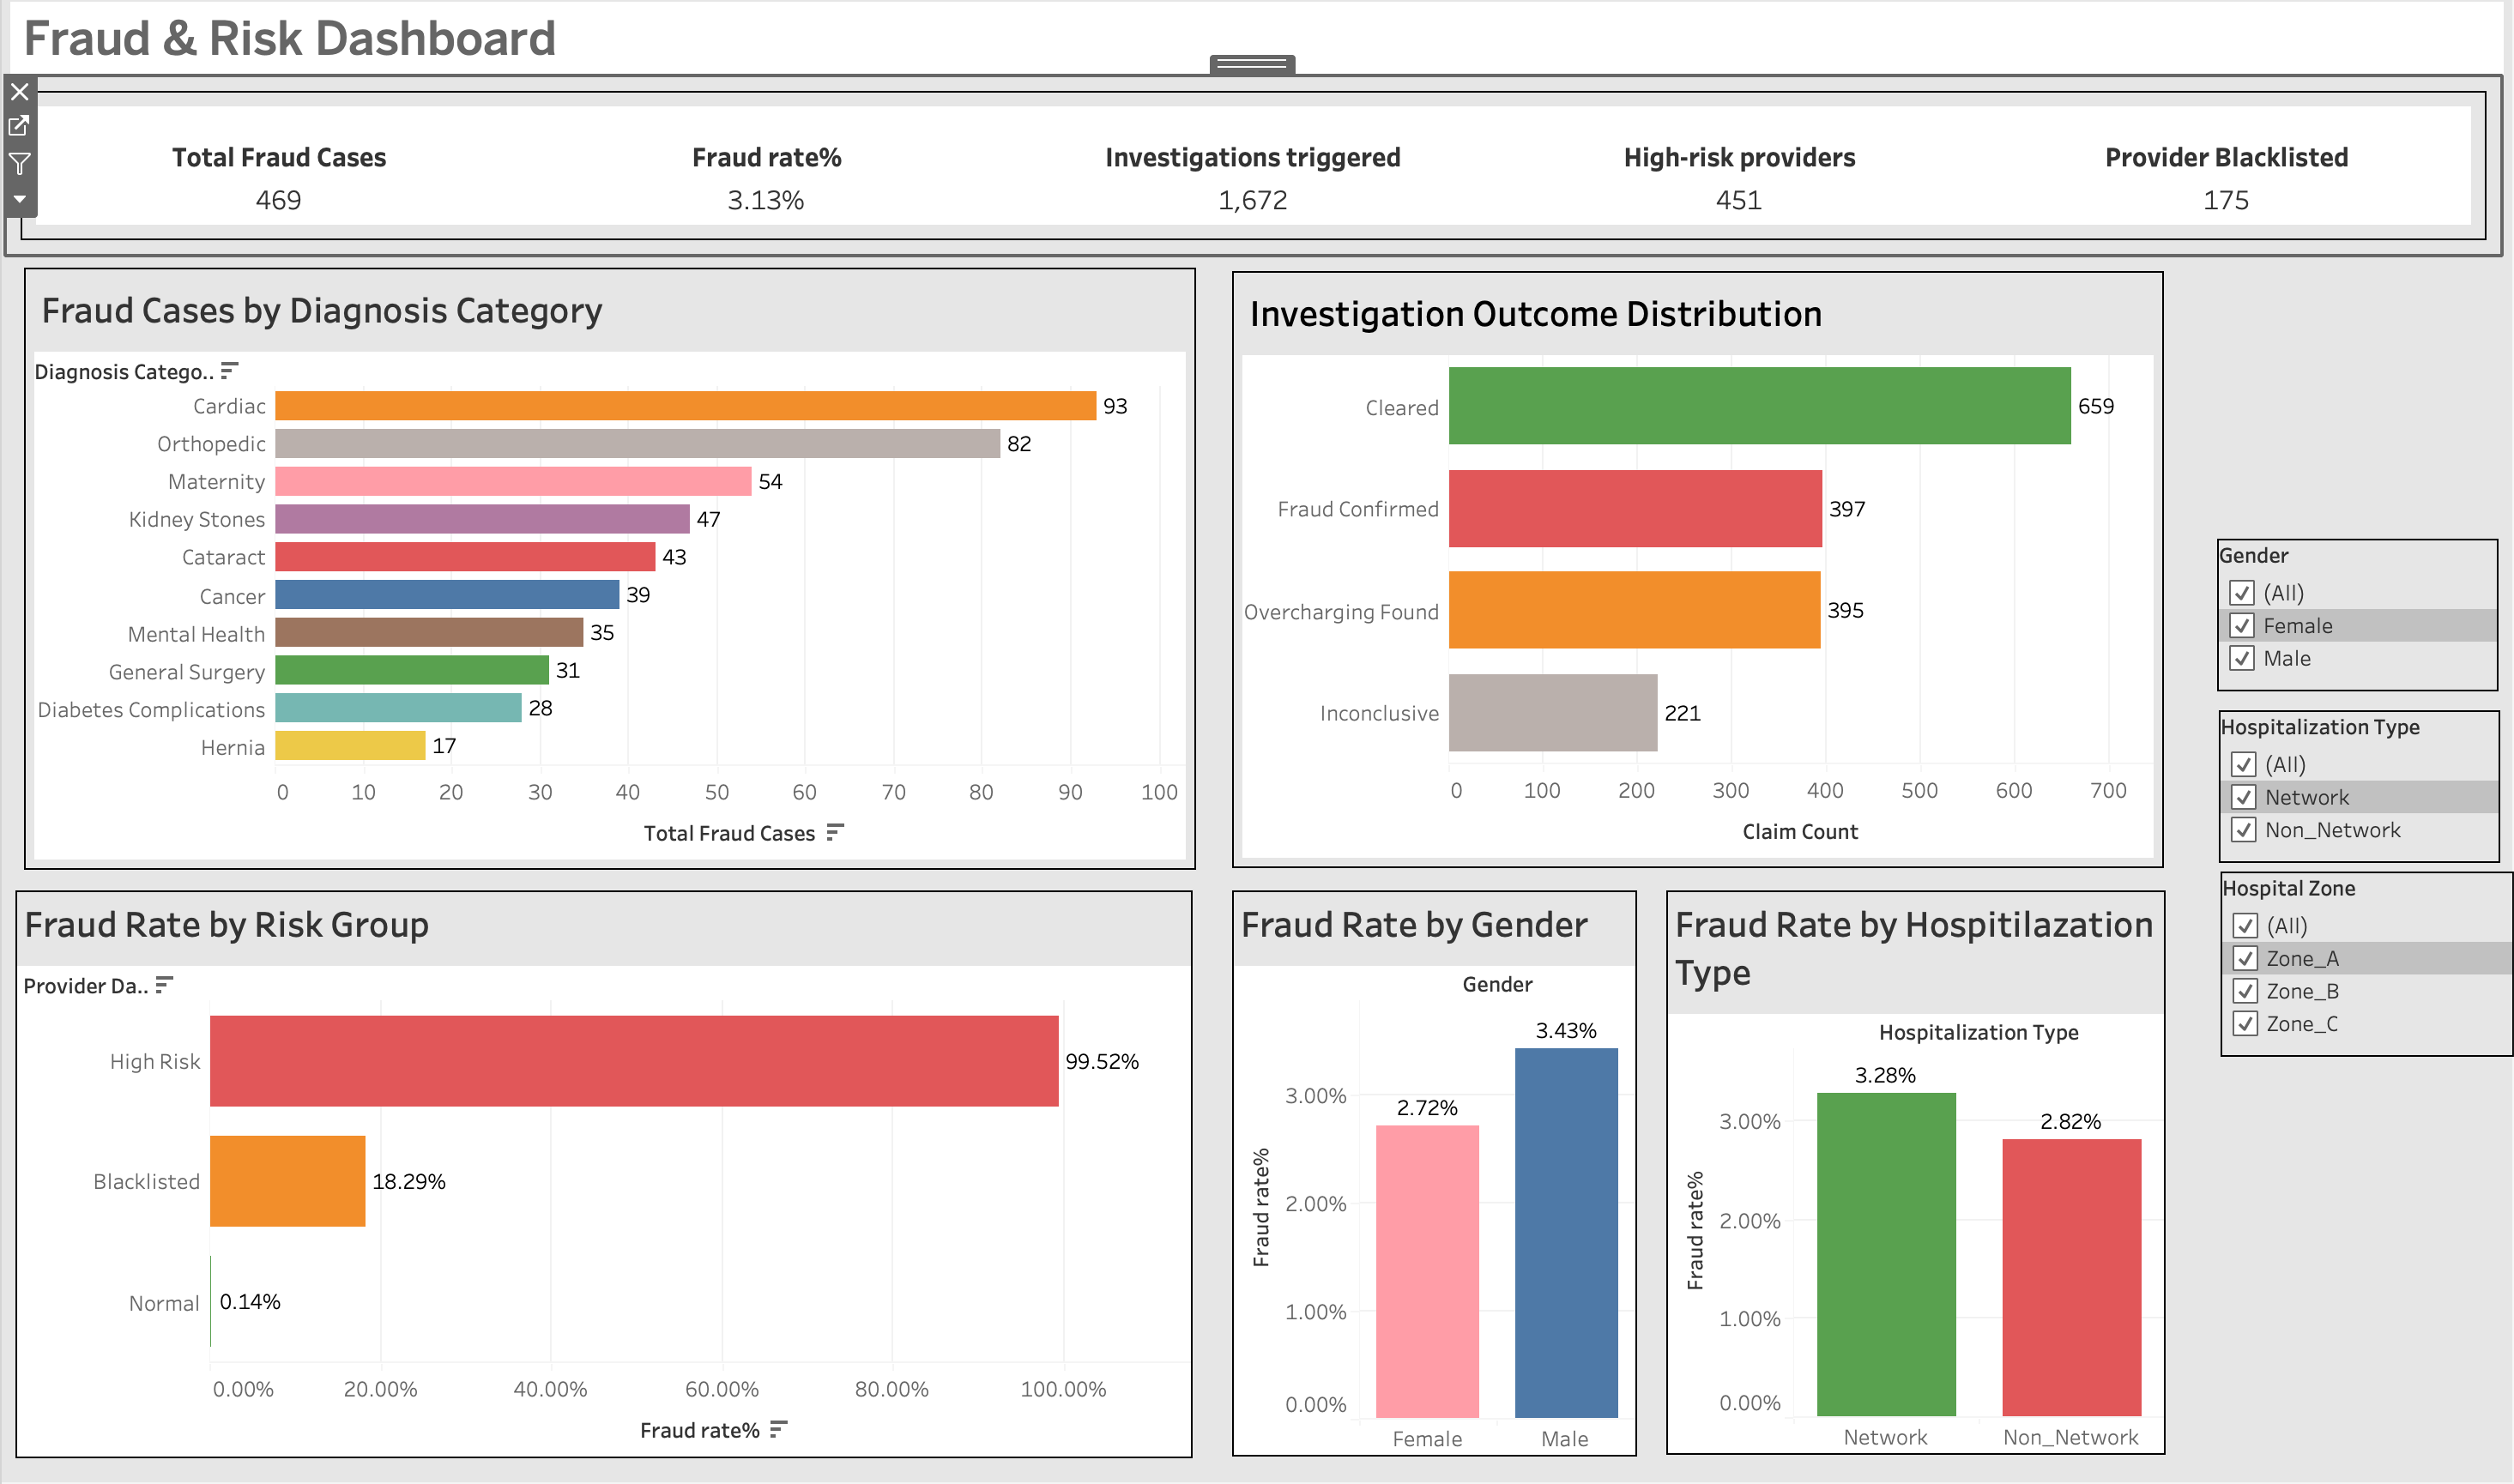

Layout of this report page (visuals, bound fields, positions):
{"tool":"tableau","page":{"name":"Fraud & RIsk Dashboard","canvas":[1000,1000],"units":"permille","ordinal":2},"visuals":[{"type":"text","box":[0,0,1000,62.2]},{"type":"worksheet","title":"KPI dash 3","mark":"Automatic","box":[2,56.5,993.2,118.7]},{"type":"worksheet","title":"Fraud Cases by Diagnosis Category","mark":"Automatic","rows":["diagnosis_category"],"cols":["Calculation_0357004576313344"],"box":[5.5,178.6,473.4,415.9]},{"type":"worksheet","title":"Fraud Investigation Outcome Matrix","mark":"Automatic","rows":["investigation_outcome"],"cols":["Calculation_0524266794168325"],"box":[486.4,180.9,378.1,412.4]},{"type":"filter","title":"Fraud Cases by Diagnosis Category","param":"[federated.18itpfi1ejlhd315w5x4e1sl6huj].[none:gender:nk]","box":[882.6,366.4,112.1,102.5]},{"type":"filter","title":"Fraud Cases by Diagnosis Category","param":"[federated.18itpfi1ejlhd315w5x4e1sl6huj].[none:hospitalization_type:nk]","box":[883.3,481.6,112.1,102.5]},{"type":"filter","title":"Fraud Cases by Diagnosis Category","param":"[federated.18itpfi1ejlhd315w5x4e1sl6huj].[none:hospital_zone:nk]","box":[883.5,589.9,117.2,124.4]},{"type":"worksheet","title":"Fraud Rate by Risk Group","mark":"Bar","rows":["Calculation_0102127860948994"],"cols":["Calculation_0357004576485377"],"box":[5.5,602.5,468.7,381.3]},{"type":"worksheet","title":"Fraud Rate by Gender","mark":"Automatic","rows":["Calculation_0357004576485377"],"cols":["gender"],"box":[489.8,602.5,161.4,380.2]},{"type":"worksheet","title":"Fraud Rate by Hospitilazation Type","mark":"Automatic","rows":["Calculation_0357004576485377"],"cols":["hospitalization_type"],"box":[662.8,602.5,198.9,379]}]}

Visuals, with their boxes on the dashboard's canvas, which has no fixed pixel size, in thousandths of its width and height (x1, y1, x2, y2). These are canvas units, not pixel positions in the 2514x1484 screenshot, which may show the page scaled, cropped or inside an application window:
text: 0 0 1000 62
"KPI dash 3" worksheet: 2 56 995 175
"Fraud Cases by Diagnosis Category" worksheet: 6 179 479 594
"Fraud Investigation Outcome Matrix" worksheet: 486 181 864 593
"Fraud Cases by Diagnosis Category" filter: 883 366 995 469
"Fraud Cases by Diagnosis Category" filter: 883 482 995 584
"Fraud Cases by Diagnosis Category" filter: 884 590 1001 714
"Fraud Rate by Risk Group" worksheet (Bar marks): 6 602 474 984
"Fraud Rate by Gender" worksheet: 490 602 651 983
"Fraud Rate by Hospitilazation Type" worksheet: 663 602 862 982
